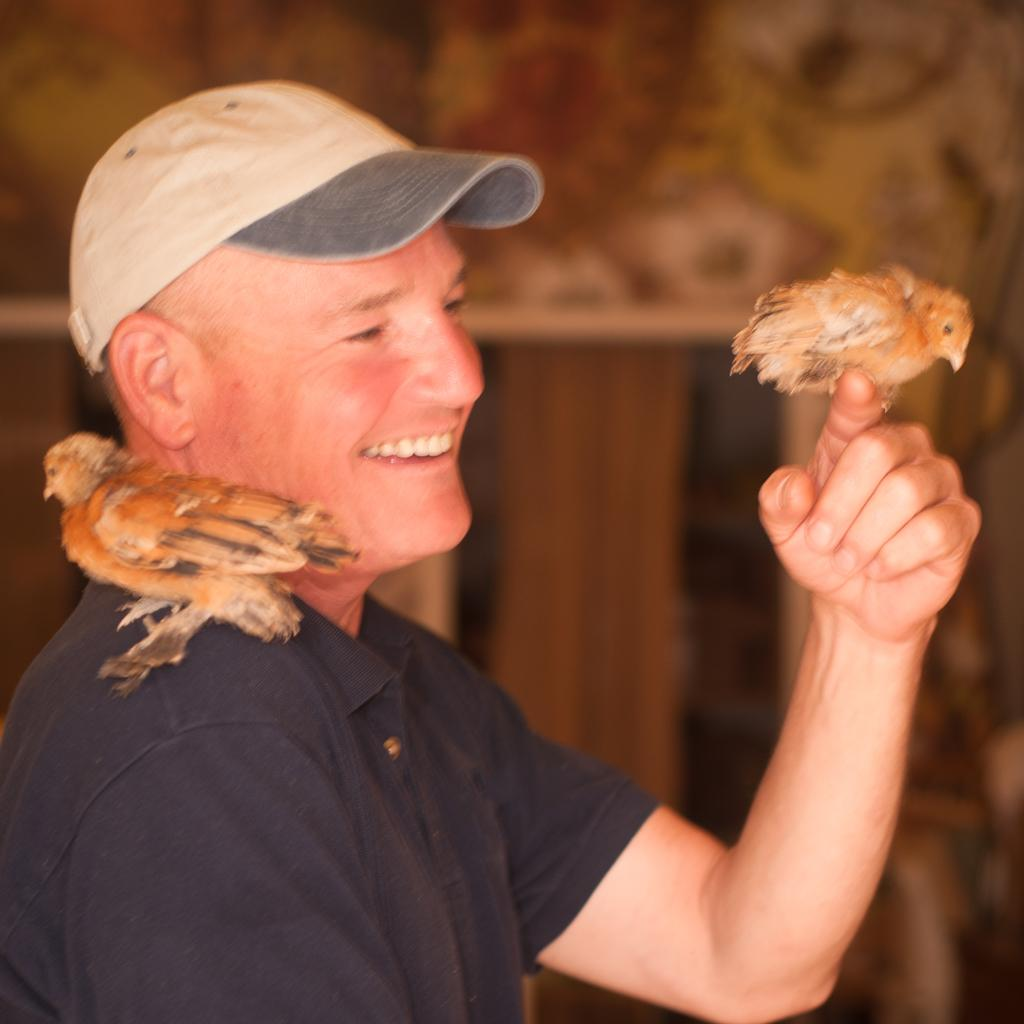Hat: (70, 72, 543, 372)
